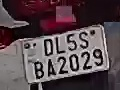0: (68, 54, 82, 74)
2: (80, 50, 93, 73), (56, 57, 69, 75)
5: (64, 31, 77, 52)
9: (92, 49, 104, 69)
A: (46, 60, 57, 78)
B: (30, 60, 45, 81)
D: (41, 38, 54, 59)
L: (54, 38, 67, 55)
S: (78, 30, 93, 50)
